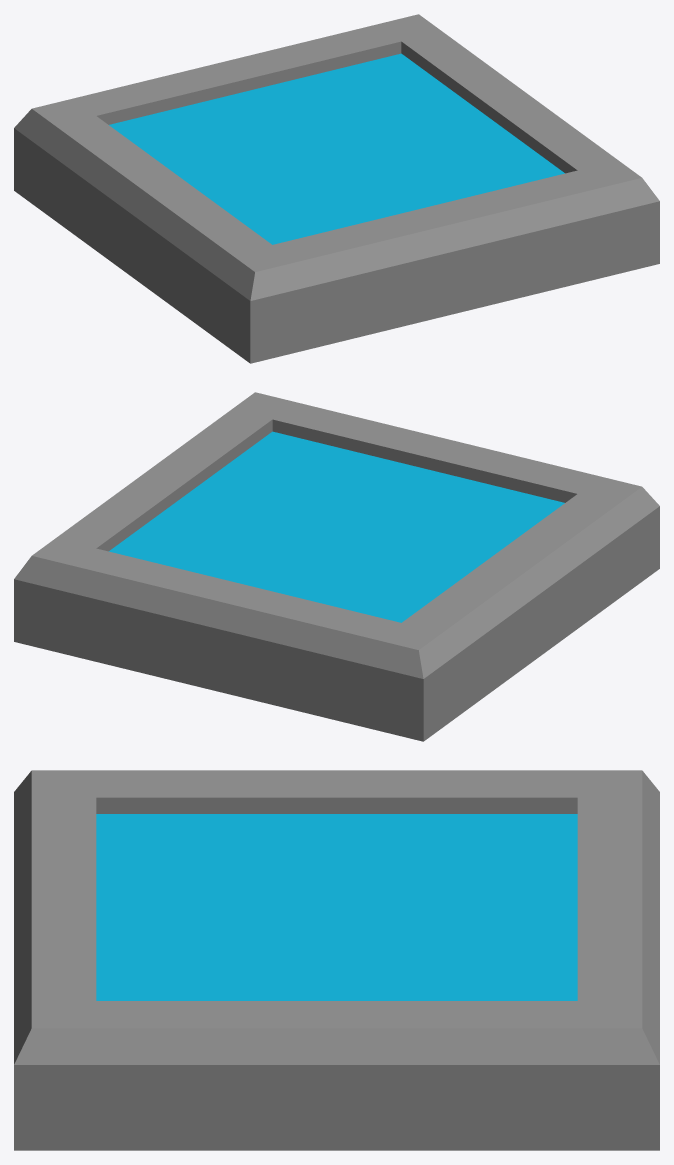
Rendered from SelftDestruct_Base.FBX.
3 renders of one model, top to bottom at view 1: azimuth 30°, elevation 25°; view 2: azimuth 150°, elevation 25°; view 3: azimuth 270°, elevation 25°, orthographic. The views are drawn at different scales.
Parts seen in each view (by area): view 1: SelfDestruct_Base; view 2: SelfDestruct_Base; view 3: SelfDestruct_Base.
Boxes of the visible parts, x1,y1,x2,y2 form: SelfDestruct_Base: (14,14,659,363); SelfDestruct_Base: (14,392,659,741); SelfDestruct_Base: (14,770,659,1150).
Size of the model in its own units: 10 by 1.96 by 10.
